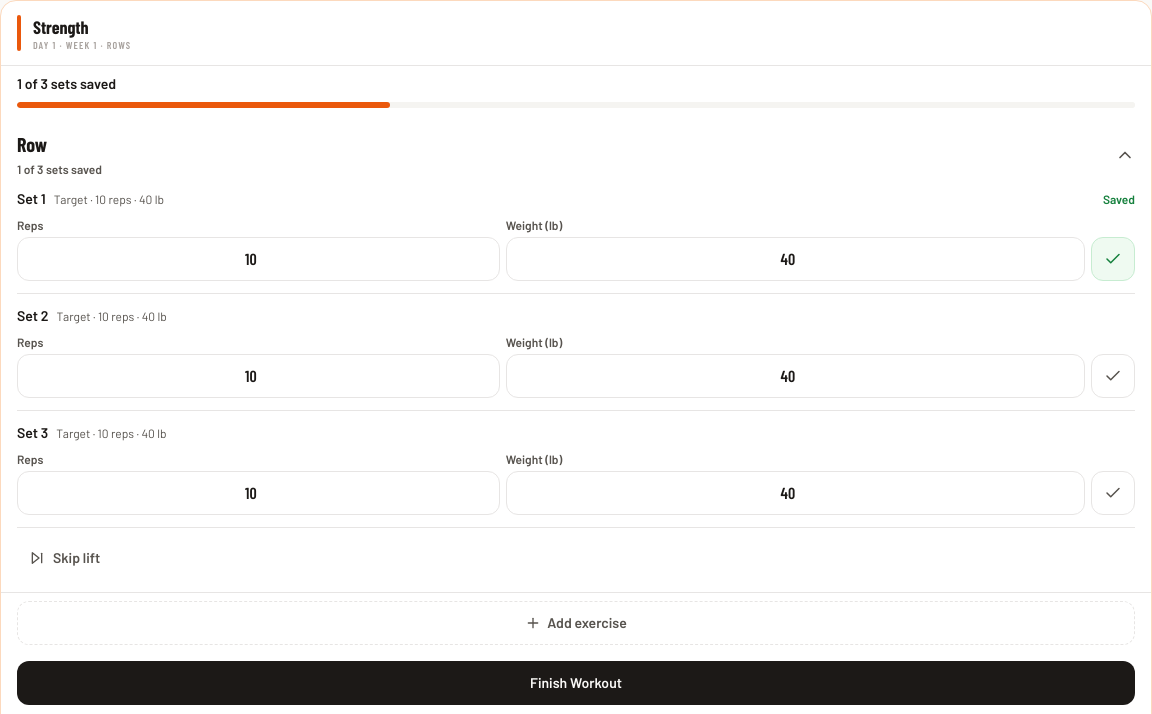
planned finish with saved sets › keeps drafts and the dialog through a failed completion, then retries using the saved result
The width and height of the screenshot is (1152, 714).
Replace the text in the number field named "Row set 1 reps" with "7": [258, 259] box [17,237,500,281]
(page scrolled)
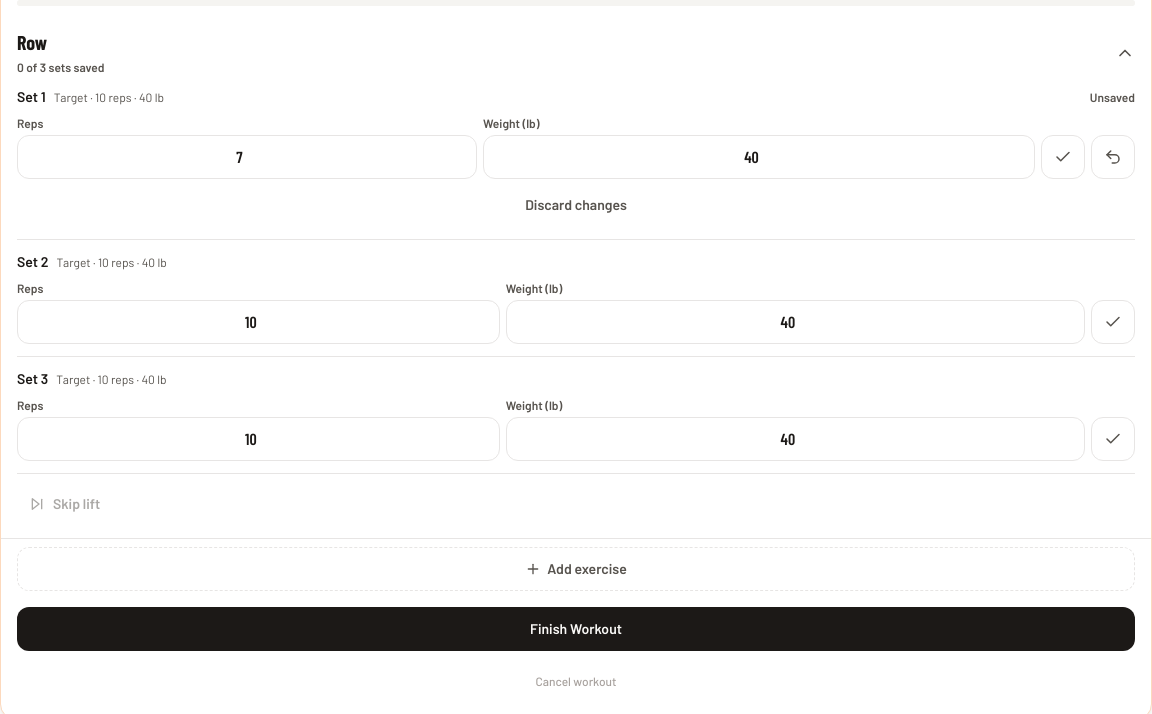
Click the button "Finish Workout": [576, 629] box [17,607,1135,651]
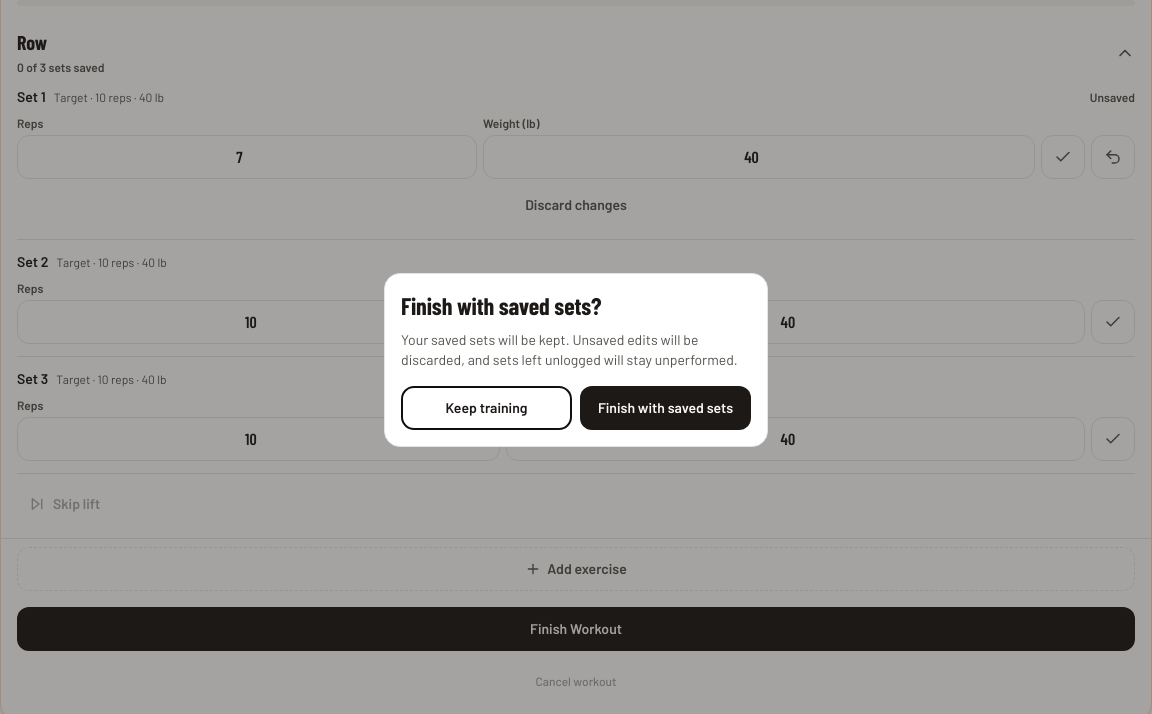
Click the button "Finish with saved sets": [666, 408] box [580,386,751,430]
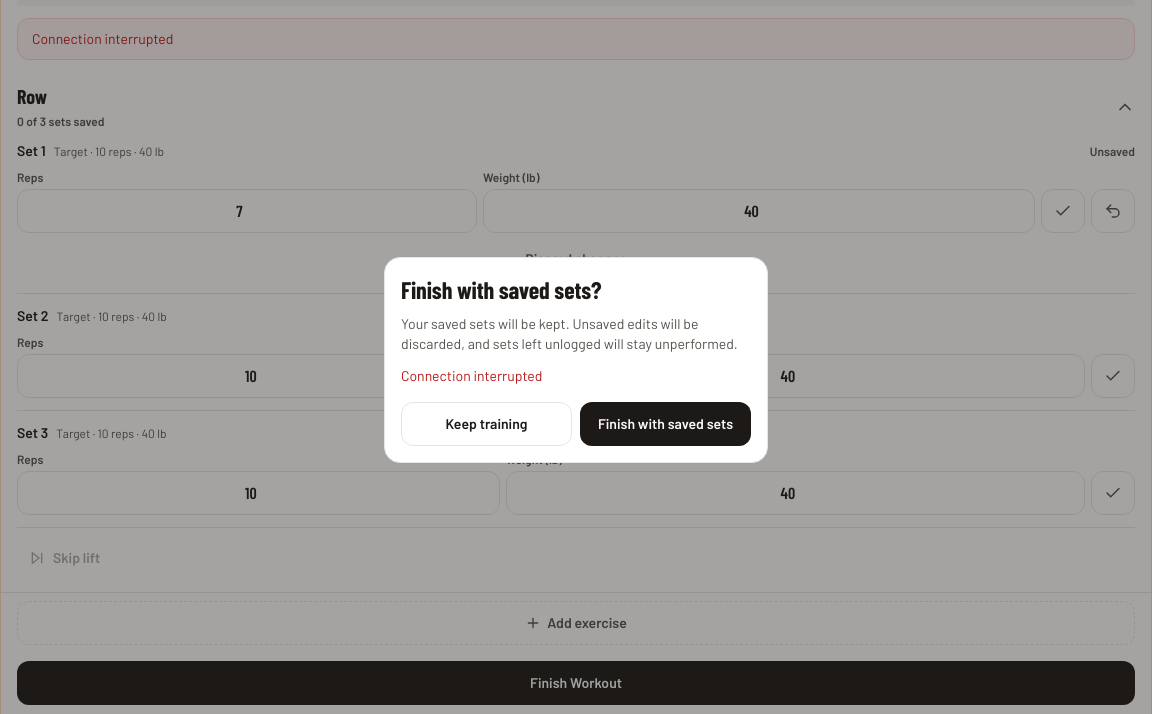
Check: the button "Finish with saved sets" is enabled
Check: the message reads "Connection interrupted", box [401,367,542,384]
Click the button "Finish with saved sets": [666, 424] box [580,402,751,446]
(page scrolled)
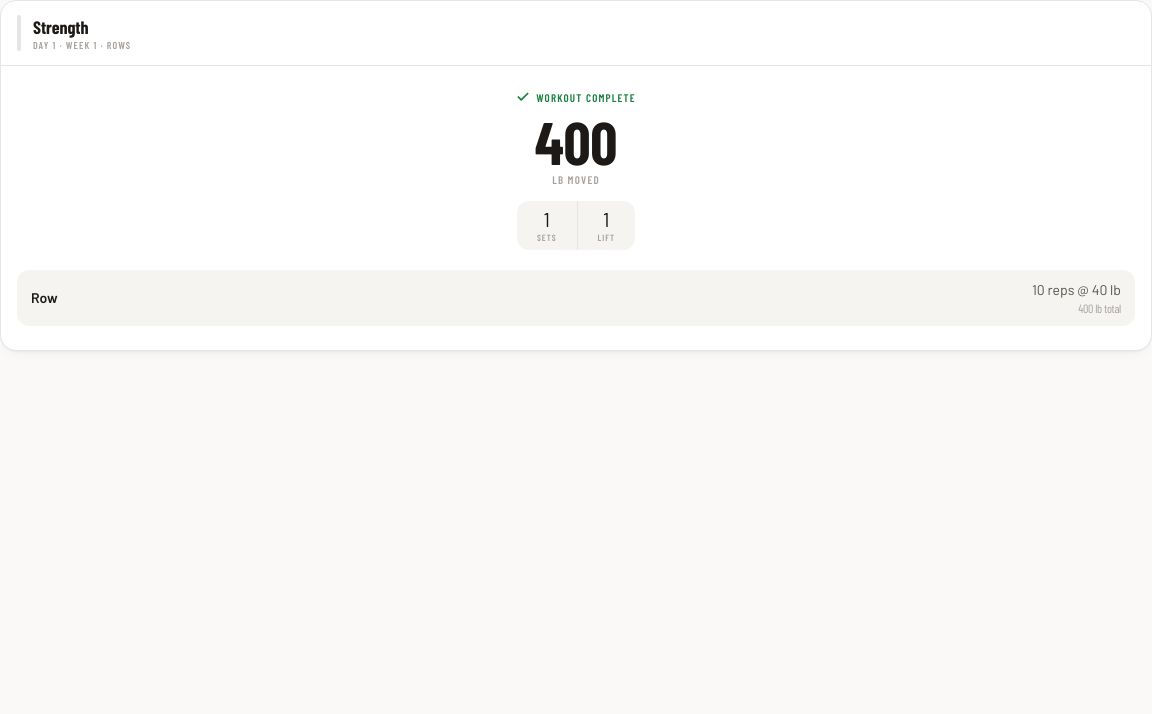
Check: the text "Workout complete" is shown, box [516,90,636,104]
Check: the text "400 lb total" is shown, box [1078,301,1121,315]
